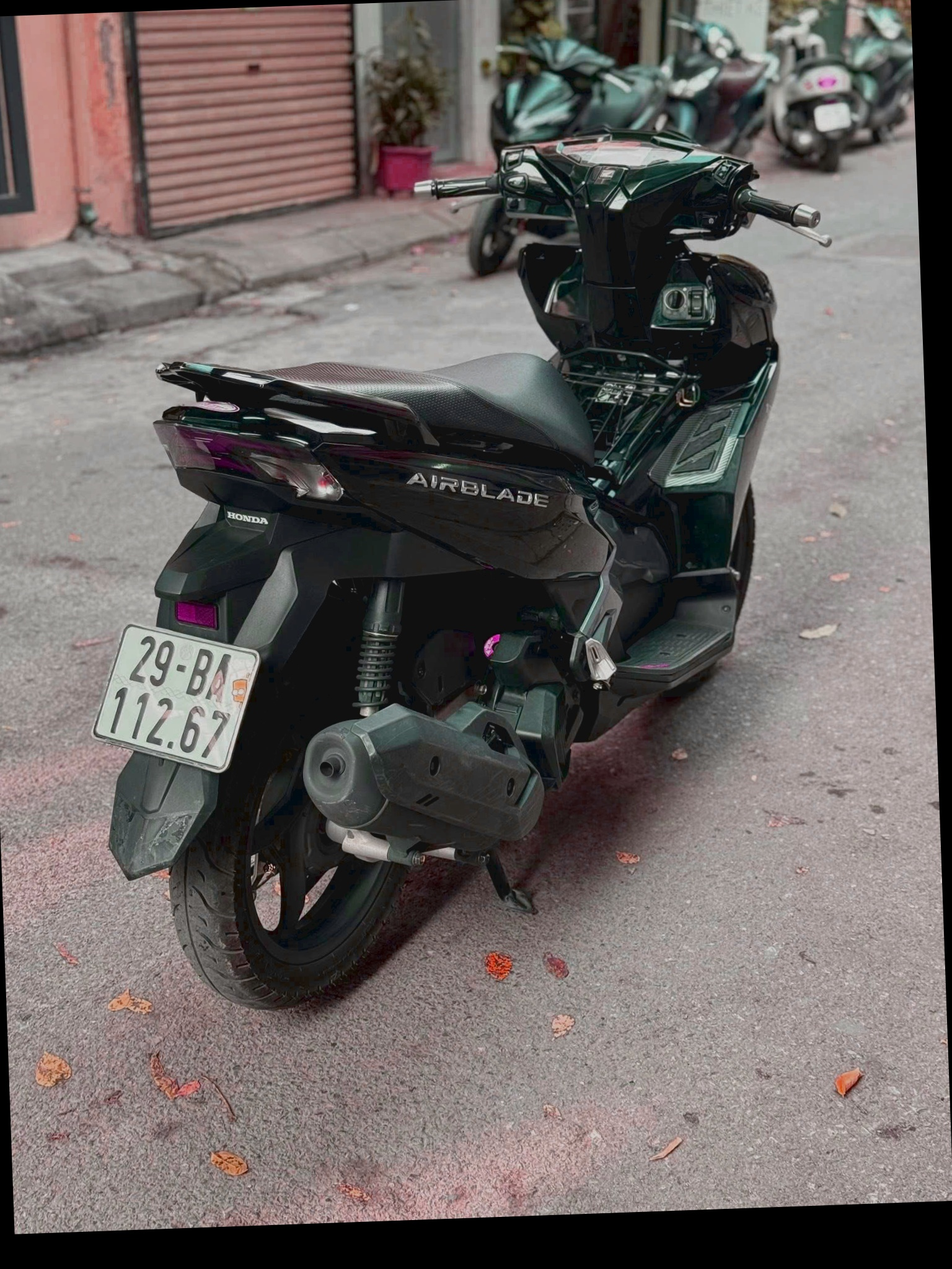Bien-so: (121, 684, 295, 847)
